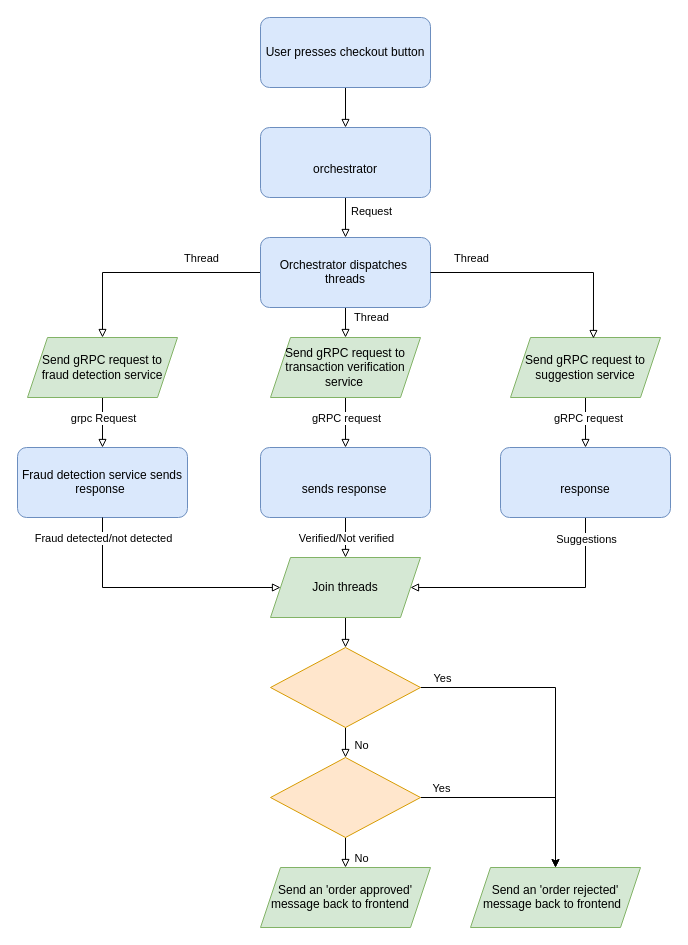
The diagram is 688 pixels wide and 945 high, and some of its shapes have lost their labels. The shapes that lost their labels are listed below. From the top down, each one's box as (x1, y1, x2, y2) in pixels, then its label:
(260, 126, 430, 198): Frontend sends request to
(260, 446, 430, 518): Transaction verification service
(500, 446, 670, 518): Suggestion service sends
(270, 646, 420, 728): Is fraud detected?
(270, 756, 420, 838): Is transaction invalid?
